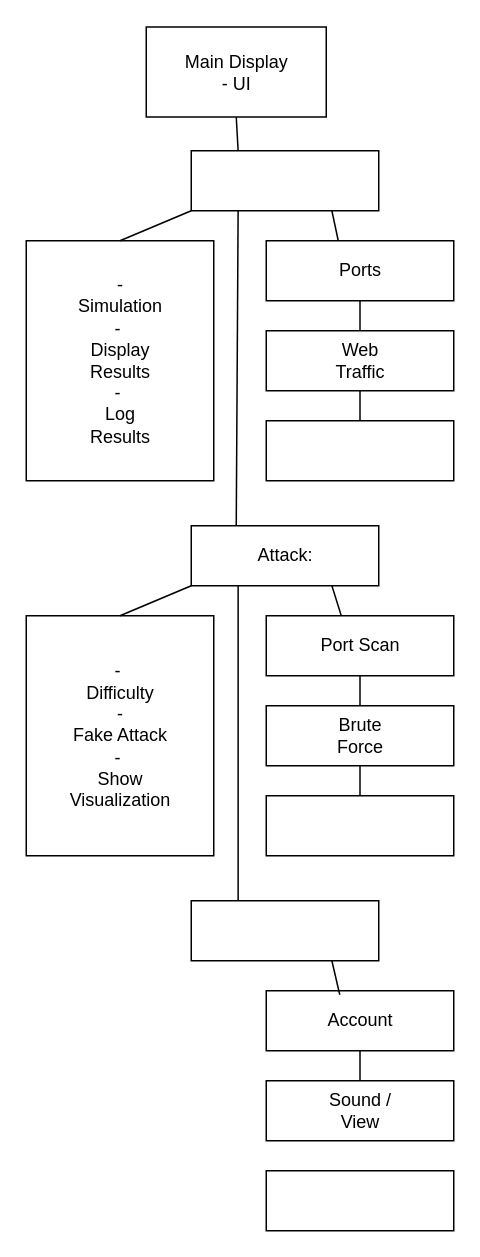
This 480x1257 diagram has some shape labels left out. The shapes that lost their labels are listed below. From the top down, each one's centre as x and y in pixels, then its label:
At (284,180): "Defense:".
At (359,450): "System Scan".
At (359,825): "DDos".
At (284,930): "Help / Settings".
At (359,1200): "Log Out".
